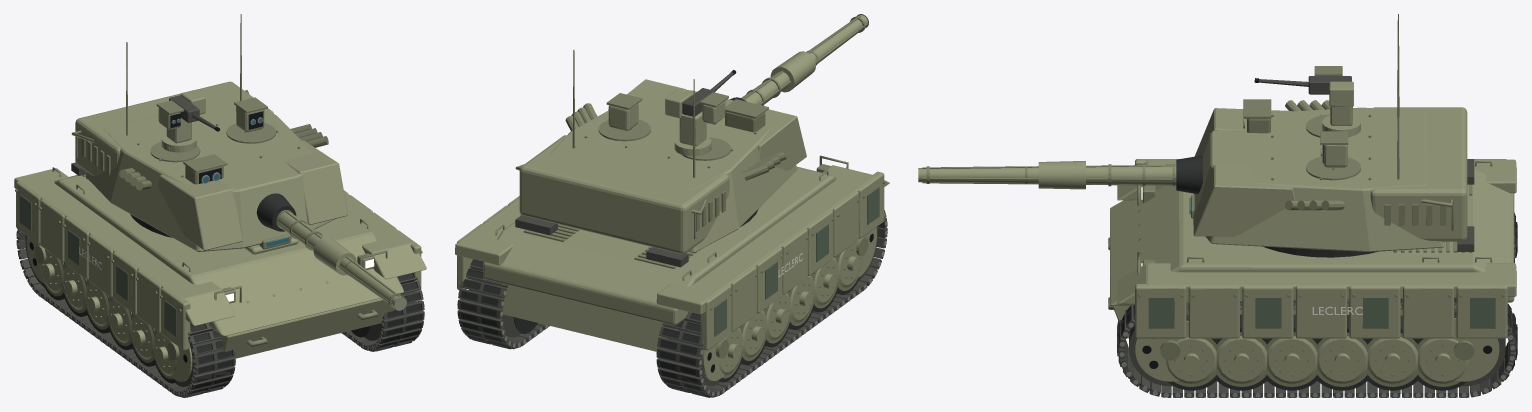
File: france.glb
3 renders of one model, left to right at view 1: azimuth 30°, elevation 25°; view 2: azimuth 150°, elevation 25°; view 3: azimuth 270°, elevation 25°, orthographic. The views are drawn at different scales.
Parts seen in each view (by area): view 1: body.001, turret.001; view 2: body.001, turret.001; view 3: body.001, turret.001.
Part boxes in pixels (<box>): body.001: <box>14,162,426,397</box>; turret.001: <box>71,14,406,310</box>; body.001: <box>455,155,889,397</box>; turret.001: <box>515,14,868,254</box>; body.001: <box>1108,159,1517,397</box>; turret.001: <box>918,14,1467,257</box>.
Bounding box in the file's own units: 3.82 × 3.98 × 7.39.
